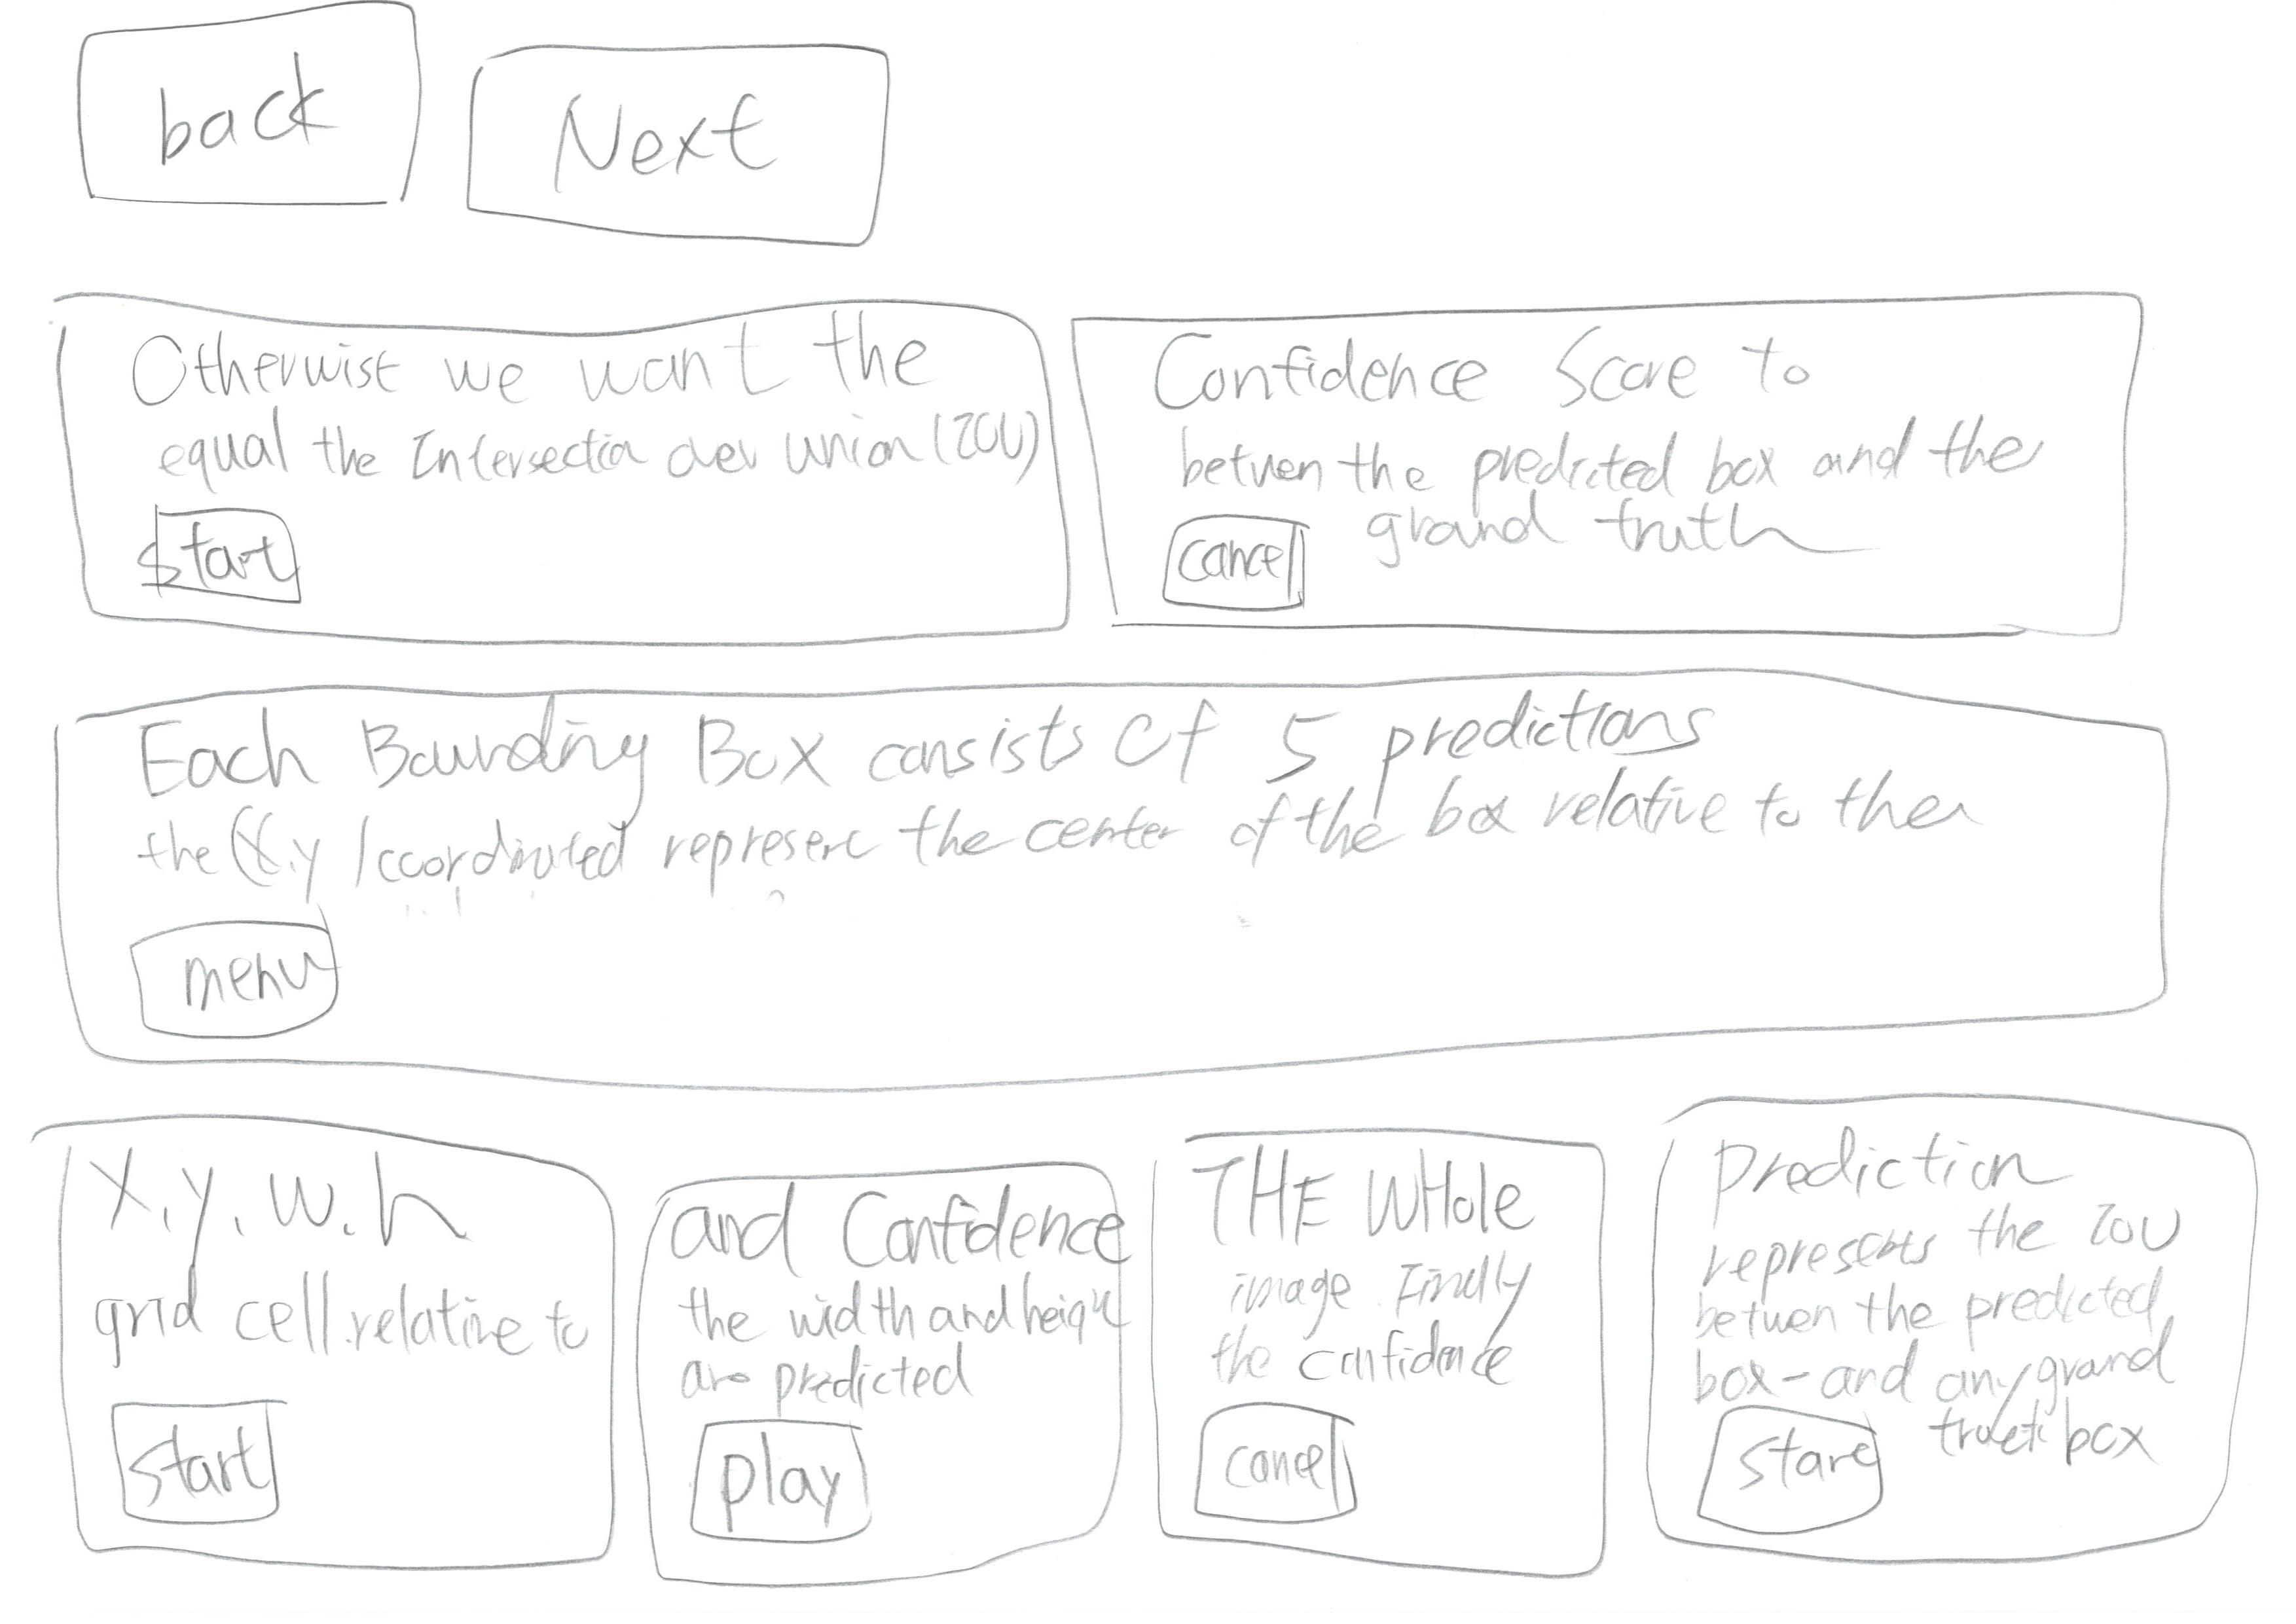back: (37, 0, 452, 232)
cancel: (1173, 1388, 1387, 1529), (1146, 489, 1336, 626)
double: (1048, 230, 2185, 680), (39, 244, 1088, 671)
menu: (116, 910, 387, 1053)
next: (440, 12, 928, 274)
play: (677, 1406, 891, 1568)
quadruple: (1635, 1074, 2296, 1617), (14, 1090, 633, 1624), (628, 1090, 1148, 1624), (1136, 1090, 1630, 1620)
row: (12, 1088, 2296, 1624), (12, 223, 2296, 682), (12, 634, 2296, 1093), (11, 0, 2296, 279)
single: (23, 642, 2275, 1113)
small-title: (118, 707, 1719, 770), (111, 327, 970, 422), (1141, 327, 1897, 413), (100, 1139, 487, 1267), (658, 1172, 1104, 1276), (1211, 1130, 1537, 1251), (1704, 1137, 2053, 1211)
start: (95, 1376, 313, 1538), (1695, 1388, 1893, 1547), (104, 501, 334, 627)
text: (121, 765, 2018, 889), (1174, 411, 2038, 531), (1672, 1202, 2187, 1396), (1902, 1218, 2196, 1476), (151, 424, 1016, 492), (687, 1278, 1115, 1403), (100, 1276, 596, 1374), (1201, 1255, 1545, 1383)
